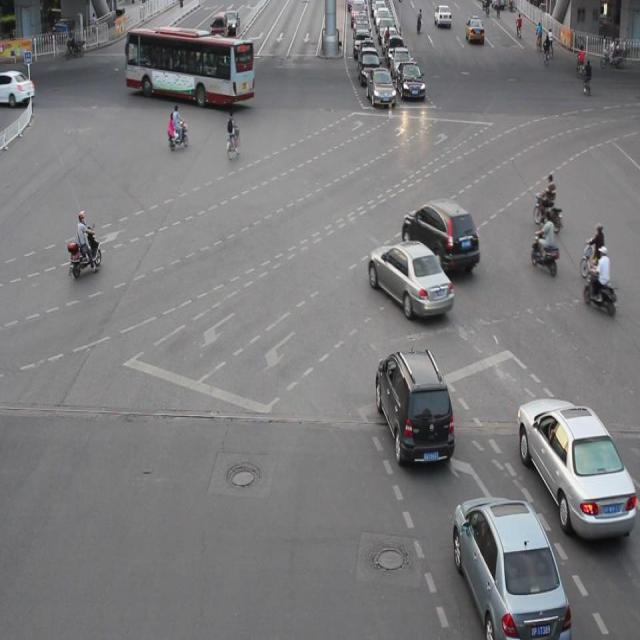car: (514, 397, 640, 539), (451, 490, 569, 640), (375, 346, 455, 465), (368, 236, 453, 320), (400, 197, 479, 277)
